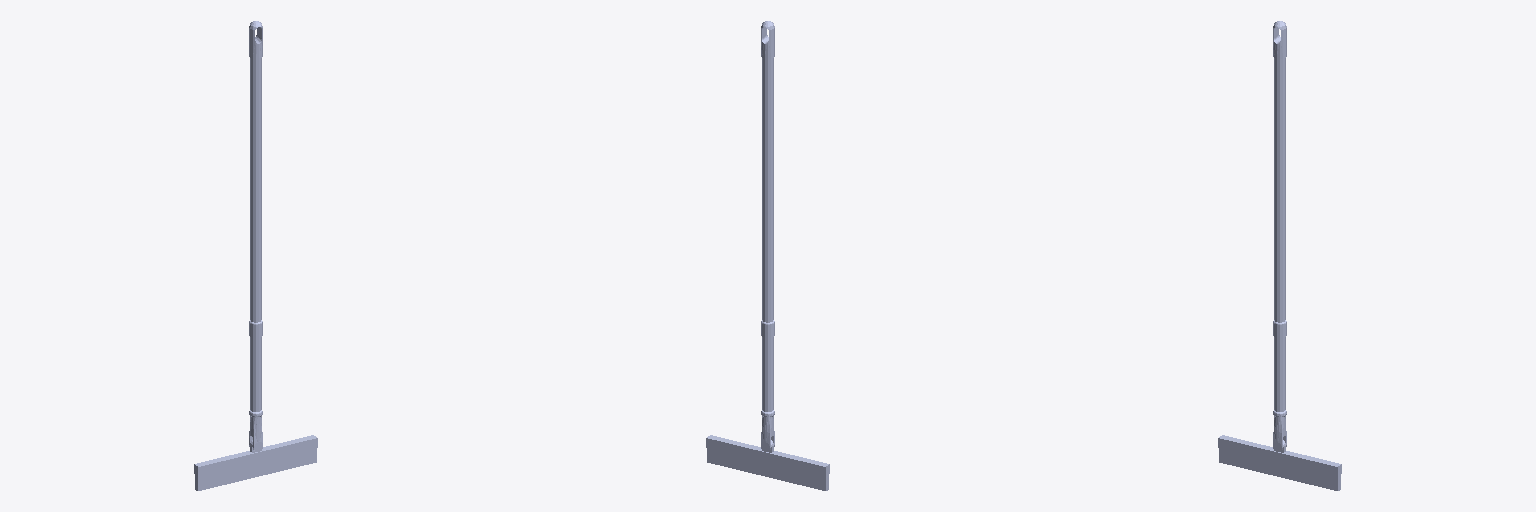
URDF robot description (broom):
<robot
  name="broom">
  <link
    name="broom_foot">
    <inertial>
      <origin
        xyz="2.6394E-08 -0.43128 -2.2446E-08"
        rpy="0 0 0" />
      <mass
        value="0.27406" />
      <inertia
        ixx="0.016374"
        ixy="-2.6073E-09"
        ixz="2.7007E-11"
        iyy="1.5214E-05"
        iyz="-7.2588E-11"
        izz="0.016375" />
    </inertial>
    <visual>
      <origin
        xyz="0 0 0"
        rpy="0 0 0" />
      <geometry>
        <mesh
          filename="package://broom/meshes/broom_foot.STL" />
      </geometry>
      <material
        name="">
        <color
          rgba="0.79216 0.81961 0.93333 1" />
      </material>
    </visual>
    <collision>
      <origin
        xyz="0 0 0"
        rpy="0 0 0" />
      <geometry>
        <mesh
          filename="package://broom/meshes/broom_foot.STL" />
      </geometry>
    </collision>
  </link>
  <link
    name="broom_head">
    <inertial>
      <origin
        xyz="3.52E-17 -0.033742 3.9734E-18"
        rpy="0 0 0" />
      <mass
        value="0.15357" />
      <inertia
        ixx="3.7442E-05"
        ixy="-3.5226E-20"
        ixz="2.6418E-21"
        iyy="0.00078341"
        iyz="-1.8246E-21"
        izz="0.00081674" />
    </inertial>
    <visual>
      <origin
        xyz="0 0 0"
        rpy="0 0 0" />
      <geometry>
        <mesh
          filename="package://broom/meshes/broom_head.STL" />
      </geometry>
      <material
        name="">
        <color
          rgba="0.79216 0.81961 0.93333 1" />
      </material>
    </visual>
    <collision>
      <origin
        xyz="0 0 0"
        rpy="0 0 0" />
      <geometry>
        <mesh
          filename="package://broom/meshes/broom_head.STL" />
      </geometry>
    </collision>
  </link>
  <joint
    name="broom_joint"
    type="revolute">
    <origin
      xyz="0 0 -0.85"
      rpy="1.5708 0 0" />
    <parent
      link="broom_foot" />
    <child
      link="broom_head" />
    <axis
      xyz="0 0 1" />
    <limit
      lower="-0.785"
      upper="785"
      effort="0"
      velocity="0" />
    <calibration
      rising="0"
      falling="0" />
    <dynamics
      damping="0"
      friction="0.001" />
    <safety_controller
      soft_upper="0"
      soft_lower="0"
      k_position="0"
      k_velocity="0" />
  </joint>
</robot>

--- Facts derived from the render (not from the file) ---
The picture shows the robot from 3 angles, left to right: view 1: azimuth 30°, elevation 25°; view 2: azimuth 150°, elevation 25°; view 3: azimuth 330°, elevation 25°; orthographic projection.
Robot: broom — 2 links, 1 joints (1 revolute); root link broom_foot; default pose: every joint at zero.
Links seen in each view (by area): view 1: broom_foot, broom_head; view 2: broom_foot, broom_head; view 3: broom_foot, broom_head.
Boxes of the visible links, x1=… form: broom_foot: x1=249, y1=21, x2=262, y2=451; broom_head: x1=194, y1=435, x2=317, y2=490; broom_foot: x1=761, y1=21, x2=774, y2=451; broom_head: x1=706, y1=435, x2=829, y2=490; broom_foot: x1=1273, y1=21, x2=1286, y2=451; broom_head: x1=1218, y1=435, x2=1341, y2=490.
Bounding box of the posed robot: 0.25 × 0.025 × 0.912 m (x, y, z).
2 mesh visuals loaded from 2 distinct referenced files (2 binary STL).
